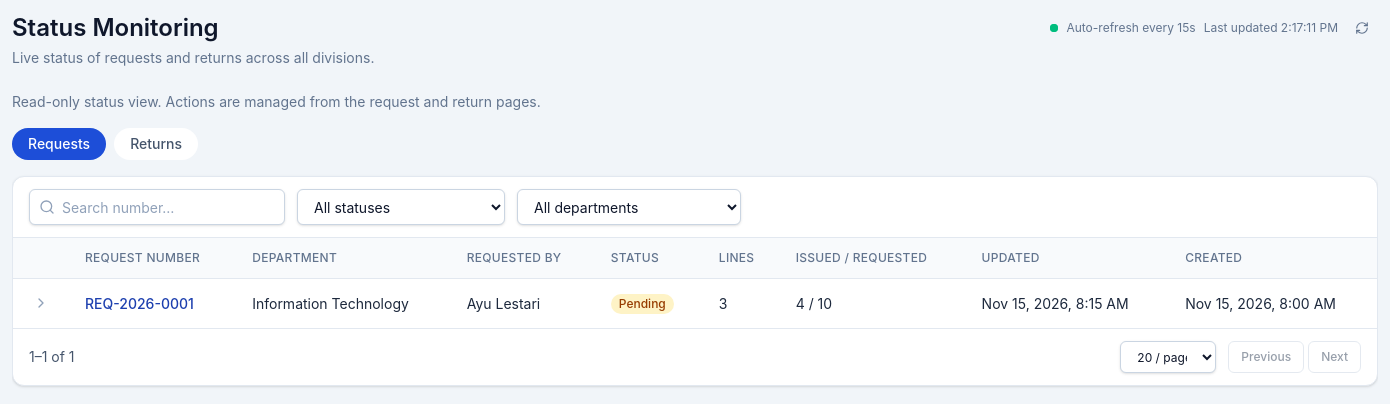
Test: MonitoringPage › switches to the returns tab and loads return rows
Check: the table is shown, box [13,238,1377,328]
Click the button "Returns" at x=156, y=144, box [114,128,198,160]
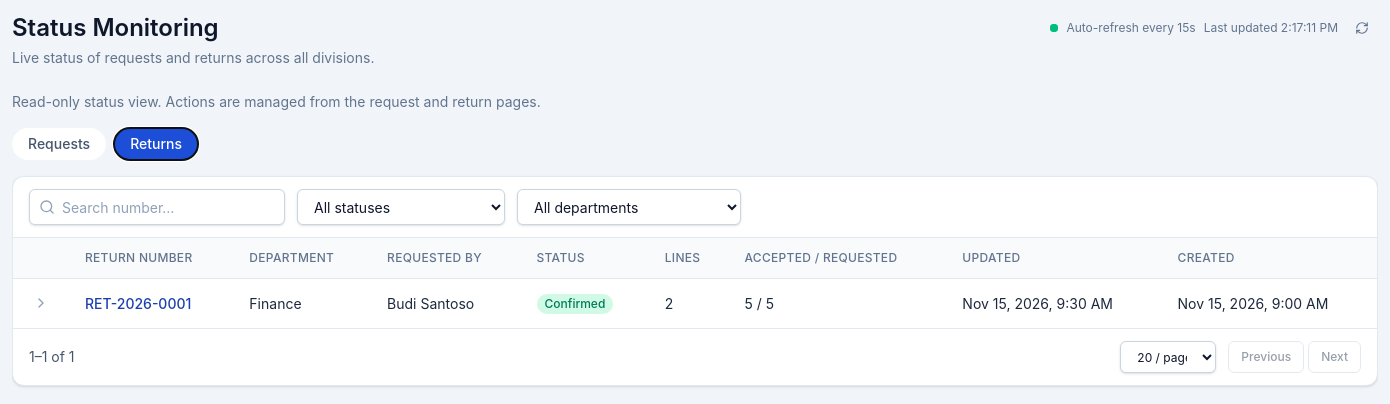
Check: the text "RET-2026-0001" is shown, box [85,294,191,312]
Check: the text "Finance" is shown, box [233,278,371,328]
Check: the text "Budi Santoso" is shown, box [371,278,520,328]
